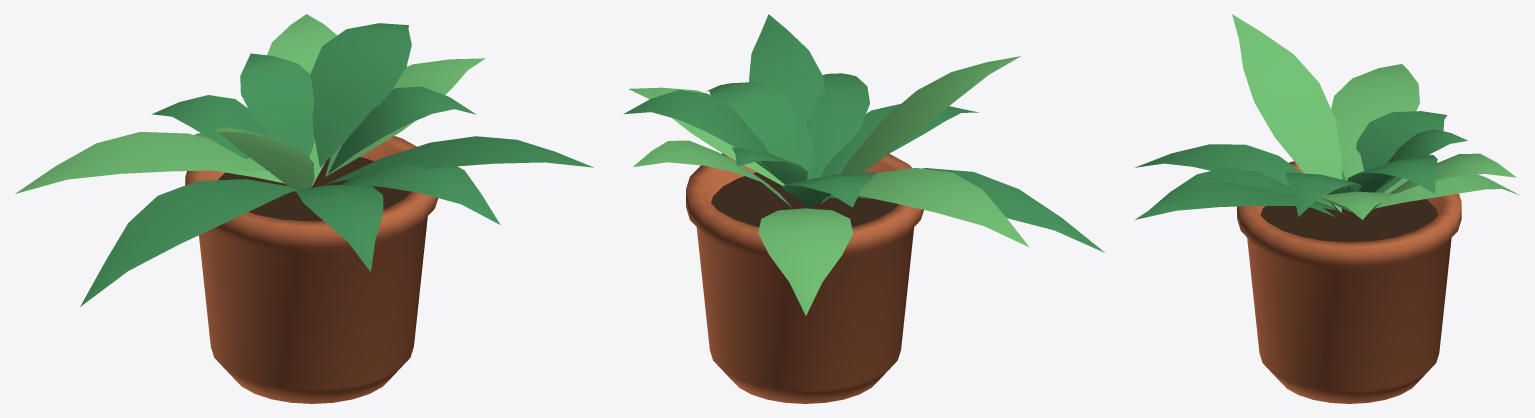
Rendered from plant.glb.
3 views of the same model, side by side, from view 1: azimuth 30°, elevation 25°; view 2: azimuth 150°, elevation 25°; view 3: azimuth 270°, elevation 25° (orthographic). The views are drawn at different scales.
Visible parts, largest first — view 1: Plant; view 2: Plant; view 3: Plant.
Boxes of the visible parts, x1,y1,x2,y2 form: Plant: (15, 14, 593, 403); Plant: (623, 14, 1104, 403); Plant: (1135, 14, 1519, 403).
Bounding box in the file's own units: 1.04 × 0.7095 × 0.8604.
